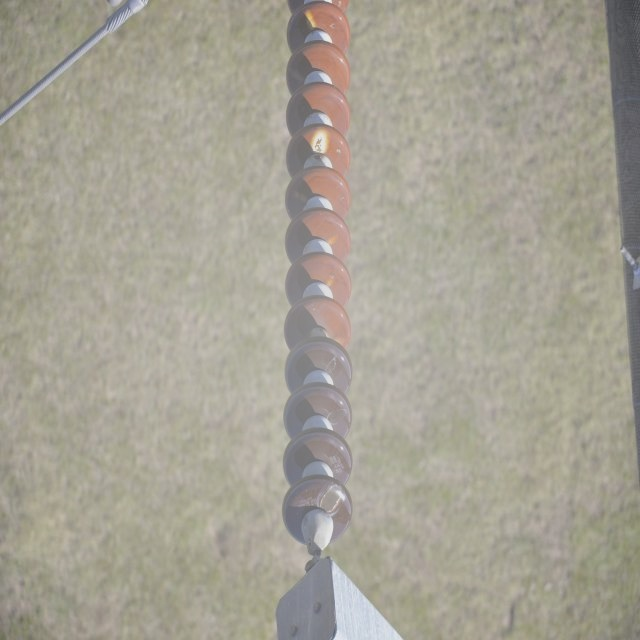insulator: (282, 0, 351, 546)
